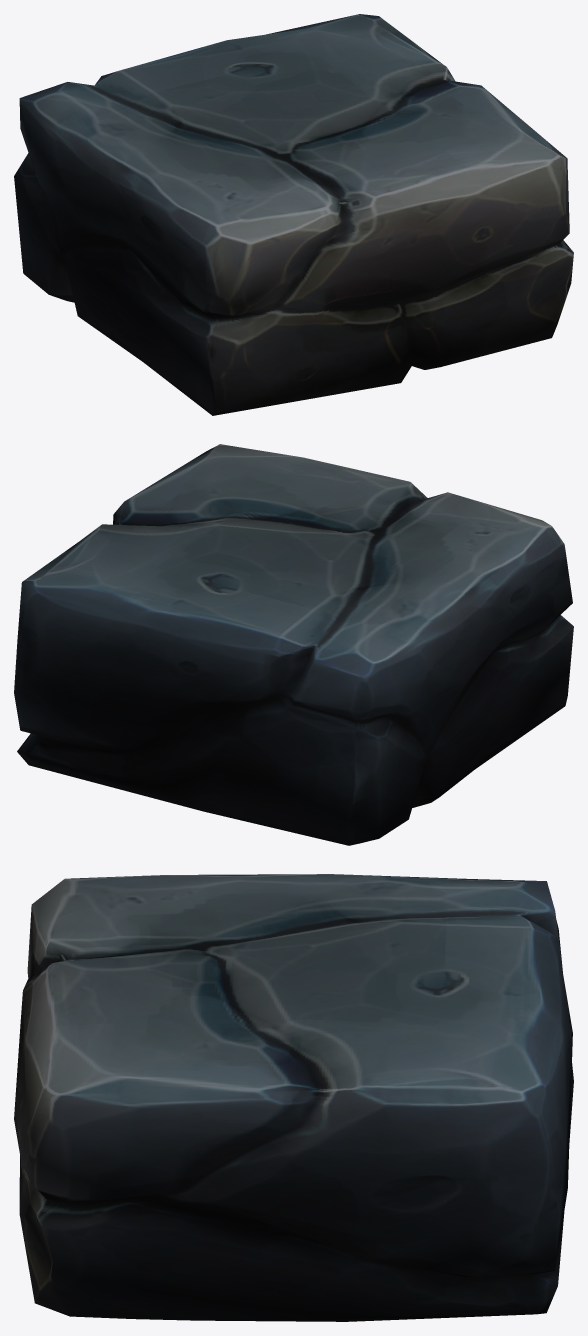
The model's file is concretTile.gltf.
The picture shows the model from 3 angles, top to bottom: view 1: azimuth 30°, elevation 25°; view 2: azimuth 150°, elevation 25°; view 3: azimuth 270°, elevation 25°; orthographic projection. The views are drawn at different scales.
Parts seen in each view (by area): view 1: defaultMaterial.001; view 2: defaultMaterial.001; view 3: defaultMaterial.001.
Boxes of the visible parts, left/top/right/bottom form: defaultMaterial.001: left=14, top=14, right=573, bottom=415; defaultMaterial.001: left=14, top=444, right=573, bottom=845; defaultMaterial.001: left=14, top=874, right=573, bottom=1321.
Size of the model in its own units: 2.12 by 1.06 by 2.12.
1 material, 1 textured.
